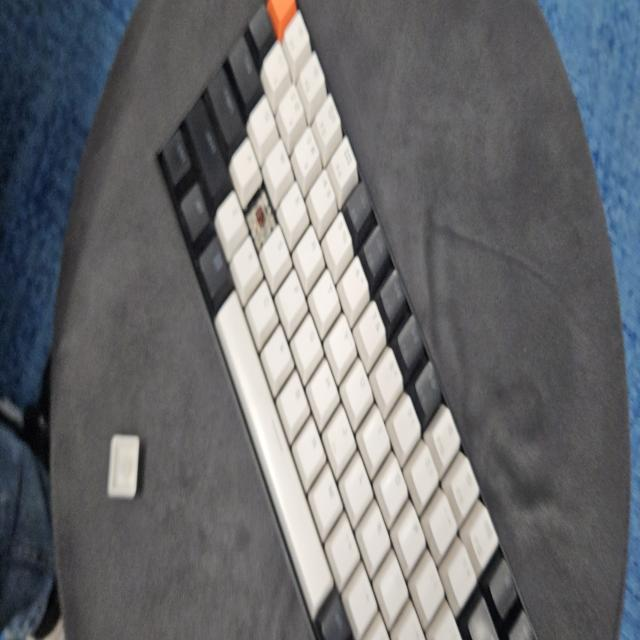C: (252, 203, 273, 245)
